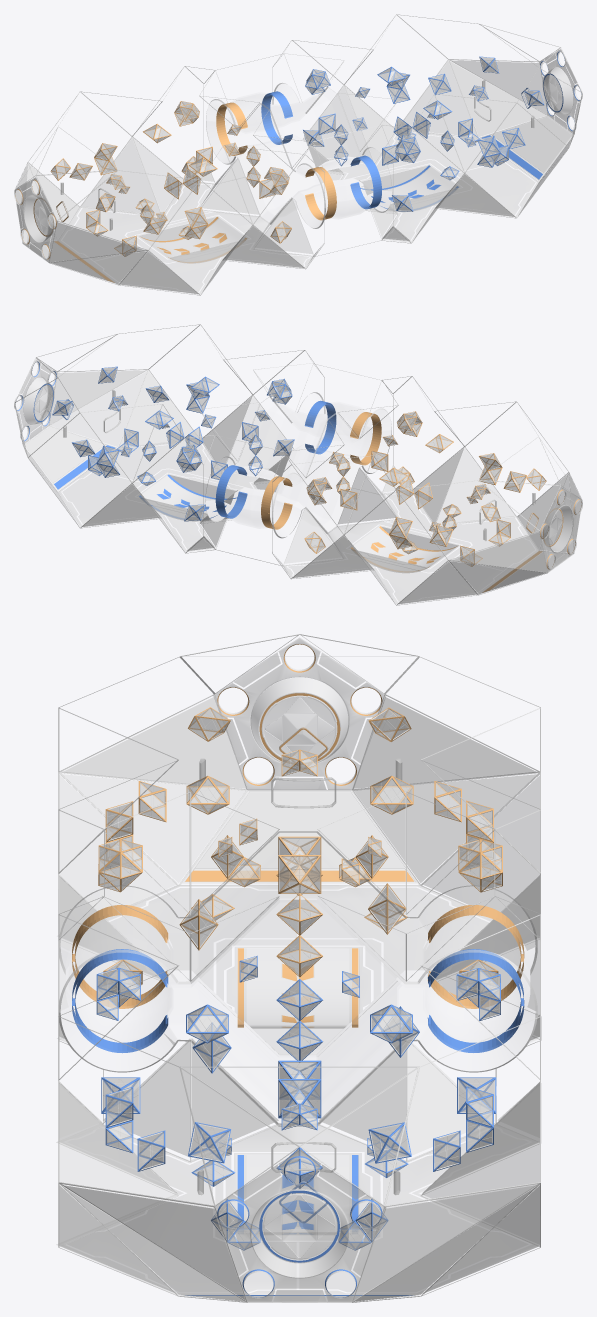
File: Arena1.glb
3 views of the same model, one above another, from view 1: azimuth 30°, elevation 25°; view 2: azimuth 150°, elevation 25°; view 3: azimuth 270°, elevation 25° (orthographic). The views are drawn at different scales.
Visible parts, largest first — view 1: CorrectArena; view 2: CorrectArena; view 3: CorrectArena.
Part boxes in pixels (box(x1,y1,x2,y2)): CorrectArena: box(14, 14, 582, 295); CorrectArena: box(14, 324, 582, 605); CorrectArena: box(56, 634, 541, 1302).
Bounding box in the file's own units: 80.94 × 18.67 × 32.2.
